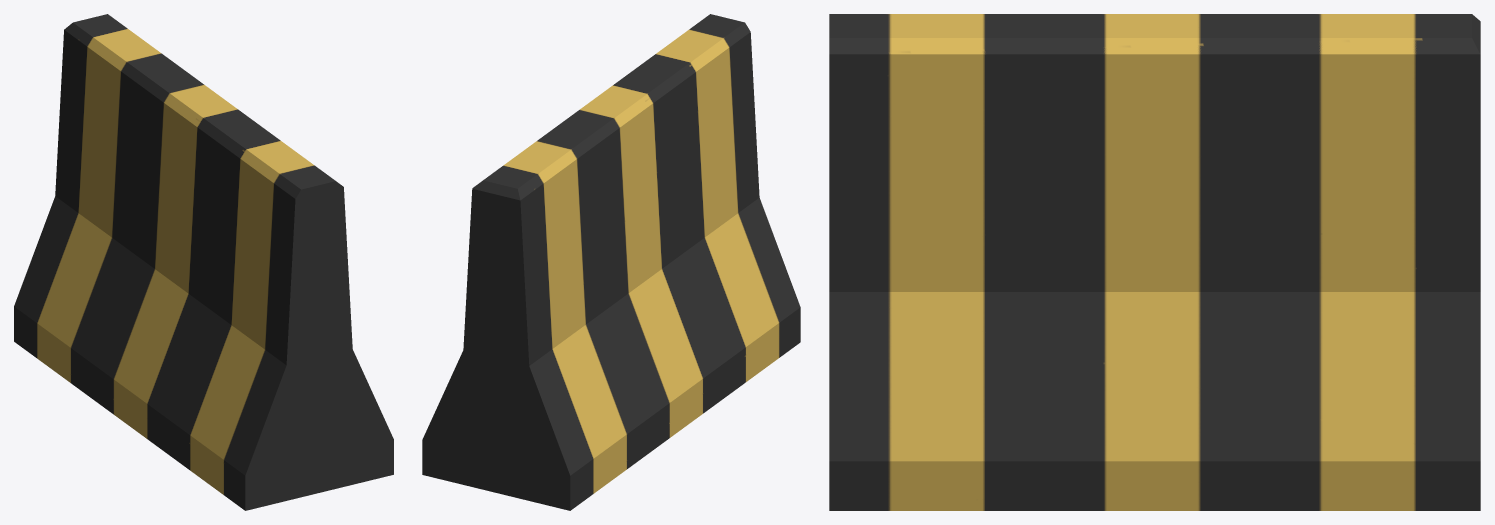
File: DeffBlock.fbx
3 renders of one model, left to right at view 1: azimuth 30°, elevation 25°; view 2: azimuth 150°, elevation 25°; view 3: azimuth 270°, elevation 25°, orthographic. The views are drawn at different scales.
Visible parts, largest first — view 1: Cube.005; view 2: Cube.005; view 3: Cube.005.
Boxes of the visible parts, x1,y1,x2,y2 form: Cube.005: (14,14,393,510); Cube.005: (422,14,800,510); Cube.005: (829,14,1480,510).
Bounding box in the file's own units: 223 × 441 × 602.
